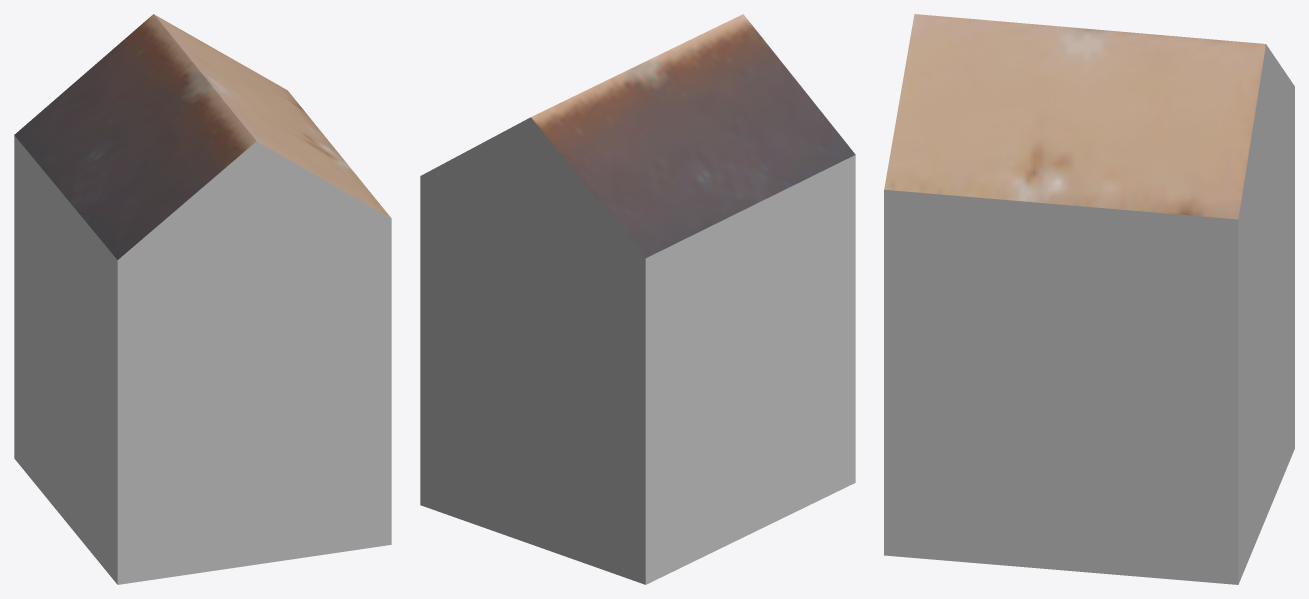
File: DEBW_0010007Txha.gltf
The picture shows the model from 3 angles, left to right: view 1: azimuth 30°, elevation 25°; view 2: azimuth 150°, elevation 25°; view 3: azimuth 270°, elevation 25°; orthographic projection. The views are drawn at different scales.
Visible parts, largest first — view 1: Z_UP; view 2: Z_UP; view 3: Z_UP.
Part boxes in pixels (box(x1,y1,x2,y2)): Z_UP: box(14, 14, 391, 584); Z_UP: box(420, 14, 855, 584); Z_UP: box(884, 14, 1294, 584).
Size of the model in its own units: 13.19 by 17.75 by 13.91.
2 materials, 1 textured.
